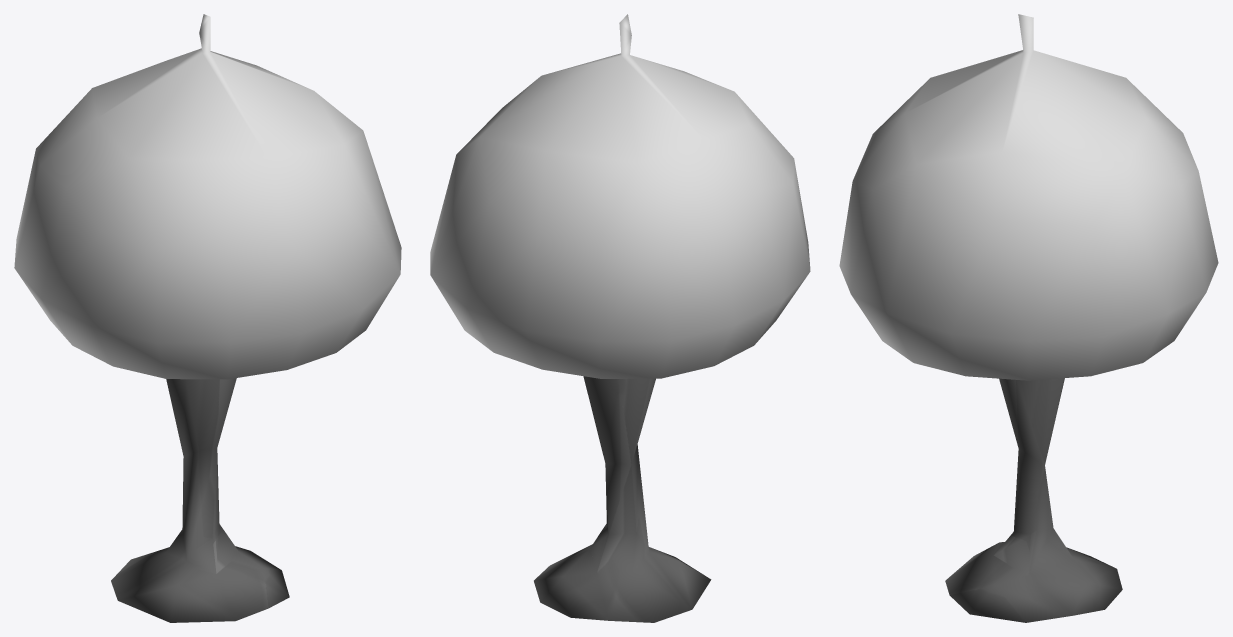
File: abajur.fbx
3 views of the same model, side by side, from view 1: azimuth 30°, elevation 25°; view 2: azimuth 150°, elevation 25°; view 3: azimuth 270°, elevation 25° (orthographic).
Parts seen in each view (by area): view 1: Cube.001, Cube; view 2: Cube.001, Cube; view 3: Cube.001, Cube.
Boxes of the visible parts, x1=… form: Cube.001: x1=14, y1=14, x2=401, y2=379; Cube: x1=111, y1=378, x2=289, y2=622; Cube.001: x1=430, y1=14, x2=810, y2=378; Cube: x1=534, y1=376, x2=711, y2=622; Cube.001: x1=839, y1=14, x2=1218, y2=380; Cube: x1=945, y1=378, x2=1122, y2=622.
Bounding box in the file's own units: 428 × 709 × 425.
Materials: 1 (1 with a texture image).
